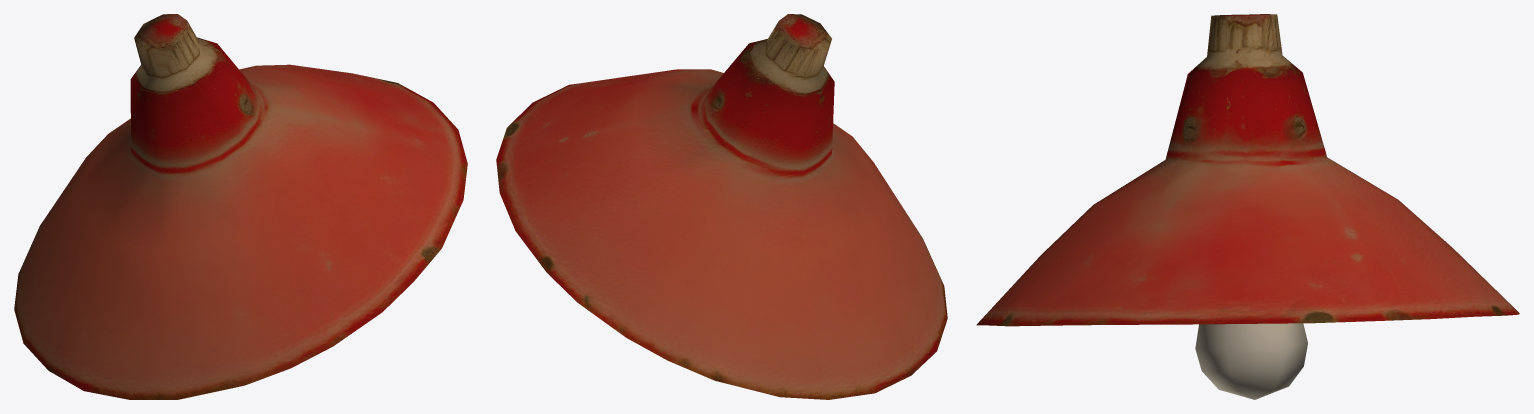
Rendered from pendant-lamp.glb.
The picture shows the model from 3 angles, left to right: view 1: azimuth 30°, elevation 25°; view 2: azimuth 150°, elevation 25°; view 3: azimuth 270°, elevation 25°; orthographic projection. The views are drawn at different scales.
Parts seen in each view (by area): view 1: tripo_node_387f5980-fca4-45b9-ac20-6a21925654ae; view 2: tripo_node_387f5980-fca4-45b9-ac20-6a21925654ae; view 3: tripo_node_387f5980-fca4-45b9-ac20-6a21925654ae.
Boxes of the visible parts, x1,y1,x2,y2 form: tripo_node_387f5980-fca4-45b9-ac20-6a21925654ae: (14,14,467,399); tripo_node_387f5980-fca4-45b9-ac20-6a21925654ae: (496,14,947,399); tripo_node_387f5980-fca4-45b9-ac20-6a21925654ae: (976,14,1519,399).
Bounding box in the file's own units: 0.9277 × 0.752 × 0.998.
Materials: 1 (1 with a texture image).
